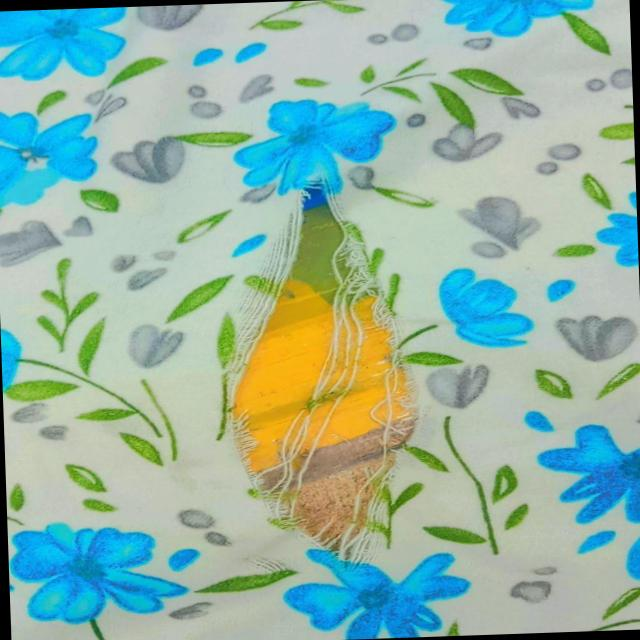cut: (194, 163, 442, 572)
